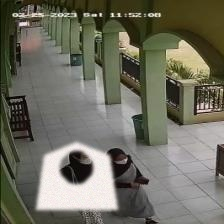Mukena: (36, 141, 117, 210)
